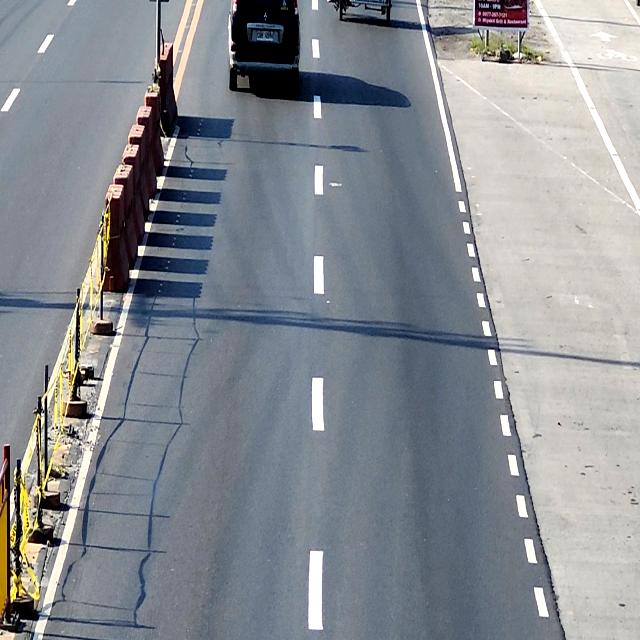Car: (228, 0, 301, 94)
License-Plate: (256, 31, 274, 42)
Tricycle: (332, 0, 392, 25)
